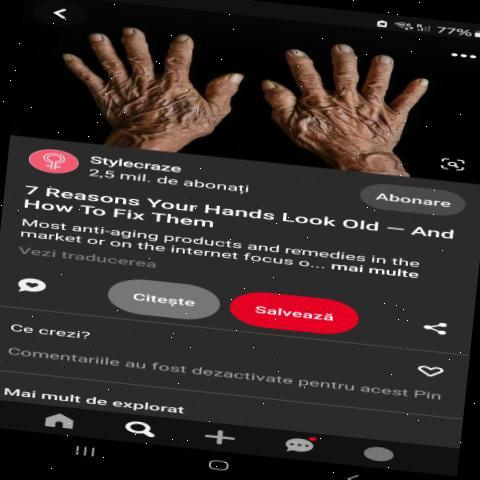Hands: (255, 14, 451, 166), (47, 6, 251, 145)
